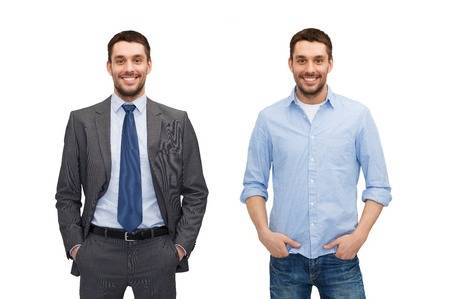C_shirt: (241, 88, 391, 259)
